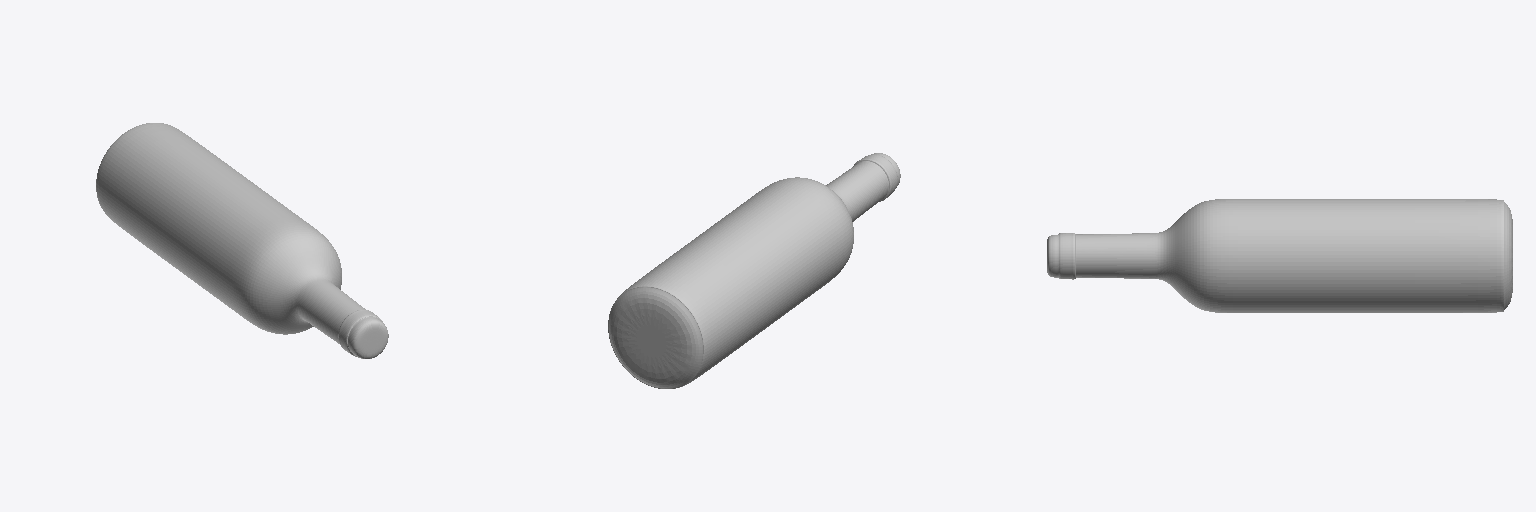
The model's file is wine.obj.
3 renders of one model, left to right at view 1: azimuth 30°, elevation 25°; view 2: azimuth 150°, elevation 25°; view 3: azimuth 270°, elevation 25°, orthographic.
Visible parts, largest first — view 1: 14042_750_mL_Wine_Bottle; view 2: 14042_750_mL_Wine_Bottle; view 3: 14042_750_mL_Wine_Bottle.
Boxes of the visible parts, <box> form: 14042_750_mL_Wine_Bottle: <box>96,123,388,358</box>; 14042_750_mL_Wine_Bottle: <box>608,153,900,388</box>; 14042_750_mL_Wine_Bottle: <box>1047,199,1512,312</box>.
Bounding box in the file's own units: 5.19 × 5.19 × 21.16.